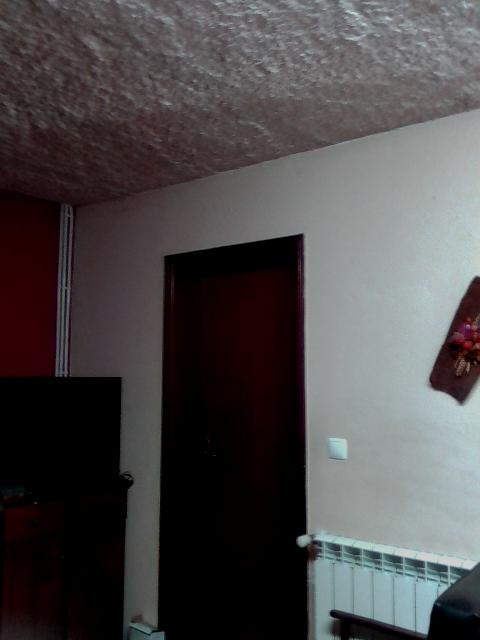closed_door: (160, 232, 307, 639)
